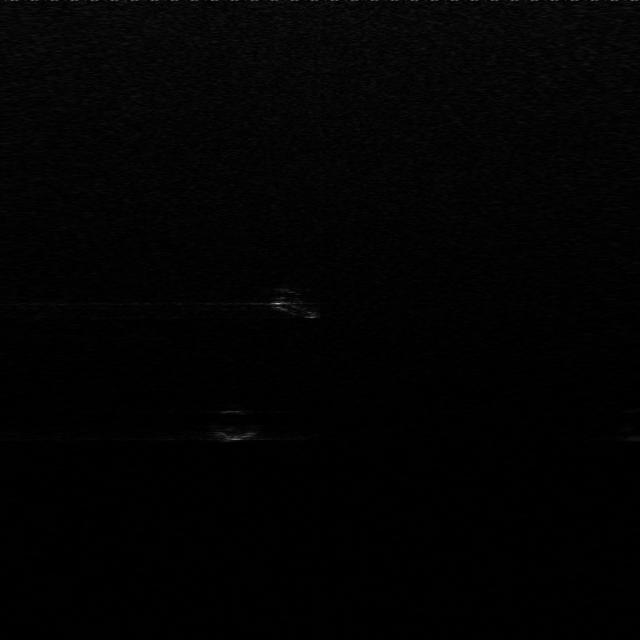ball: (204, 403, 266, 447)
tyre: (263, 283, 328, 323)
